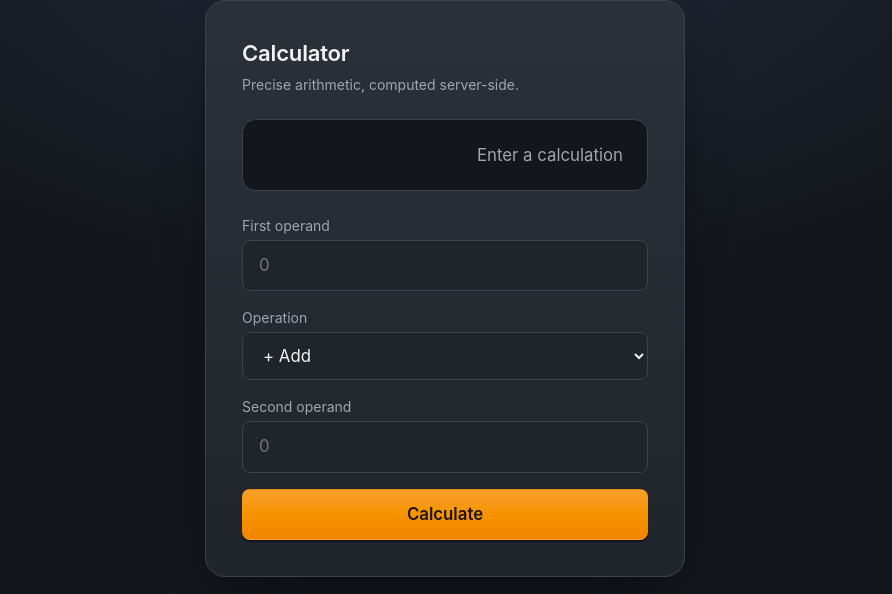
Calculator › rejects an empty second operand locally
Type "5" into the field labelled "First operand" at (445,266), box 242,240 -> 648,291
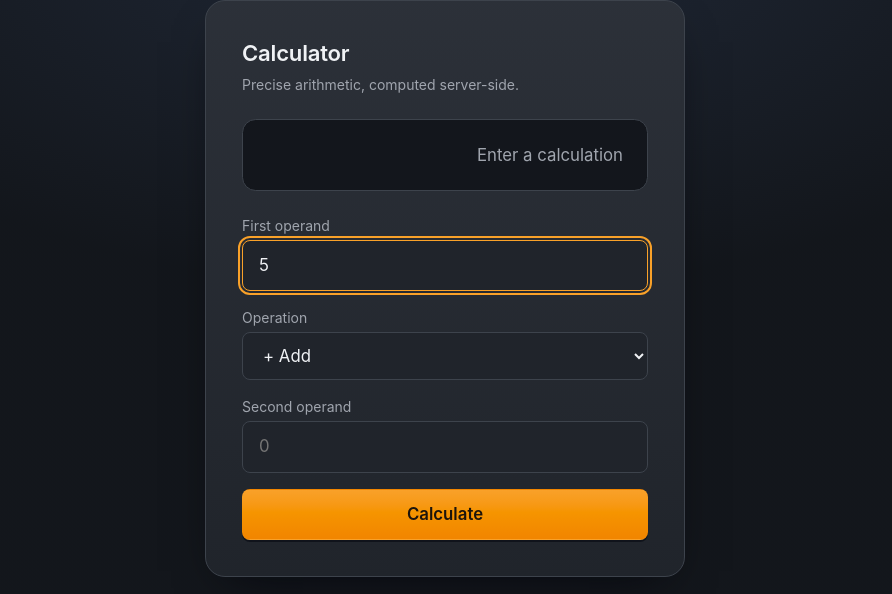
Select "+ Add" in the dropdown labelled "Operation" at (445,356), box 242,332 -> 648,380
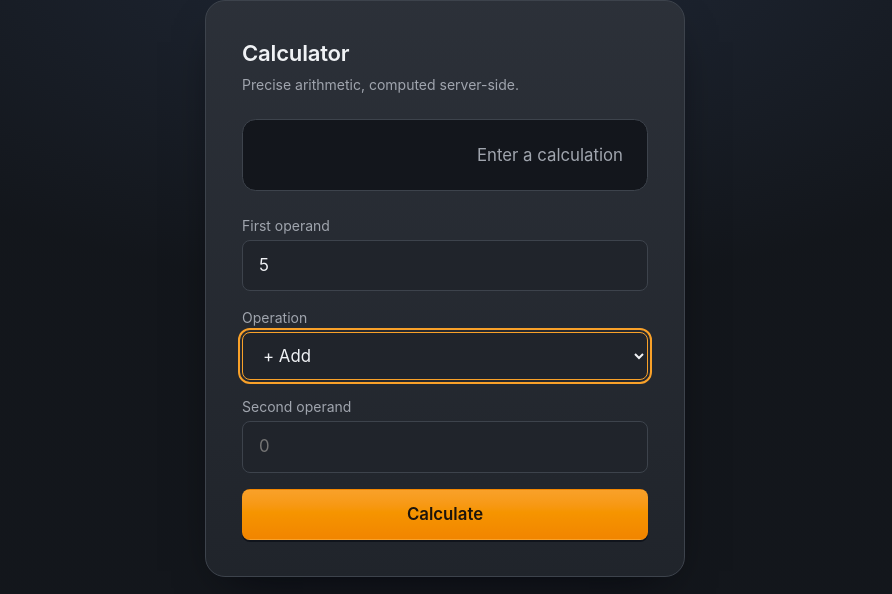
Clear the field labelled "Second operand" at (445,447), box 242,421 -> 648,473
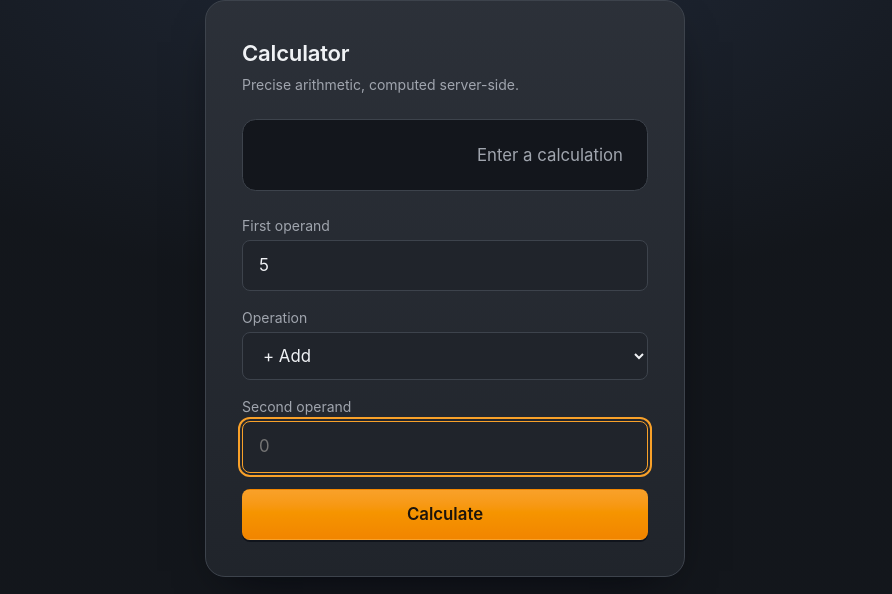
Click the button "Calculate" at (445,514), box 242,489 -> 648,540
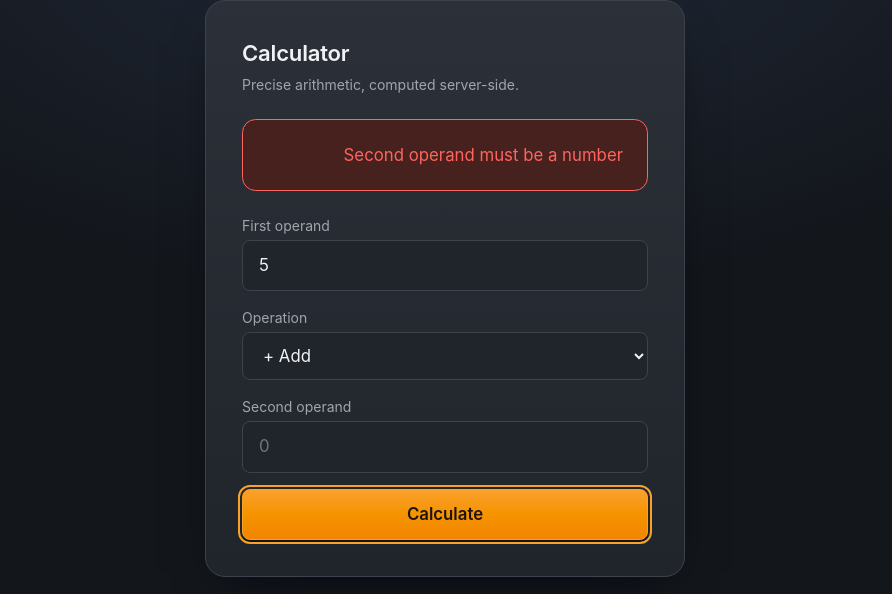
Result: the text "Second operand must be a number" is shown at 344,143 -> 623,168
